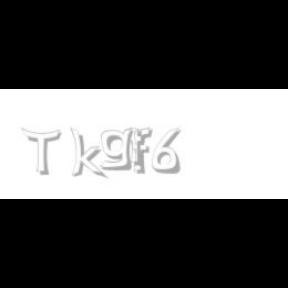6: (152, 128, 180, 176)
T: (21, 128, 61, 176)
f: (132, 128, 156, 174)
g: (100, 128, 138, 171)
k: (70, 128, 108, 180)
t: (127, 128, 149, 168)
